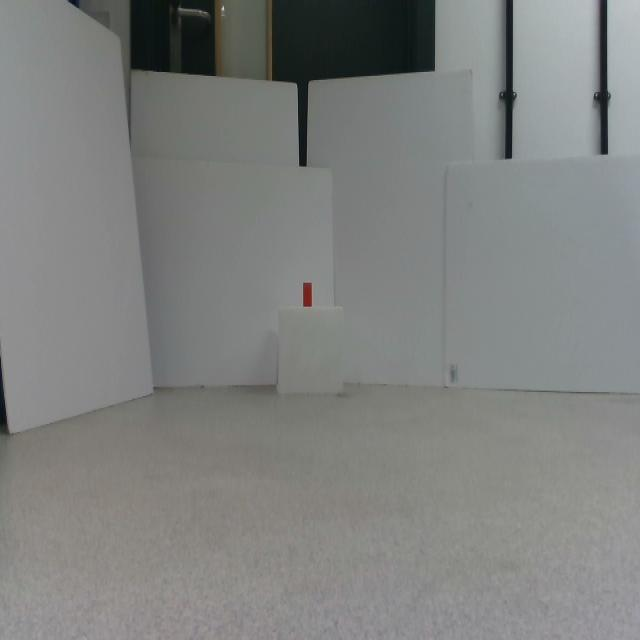red_cylinder: (303, 282, 312, 307)
